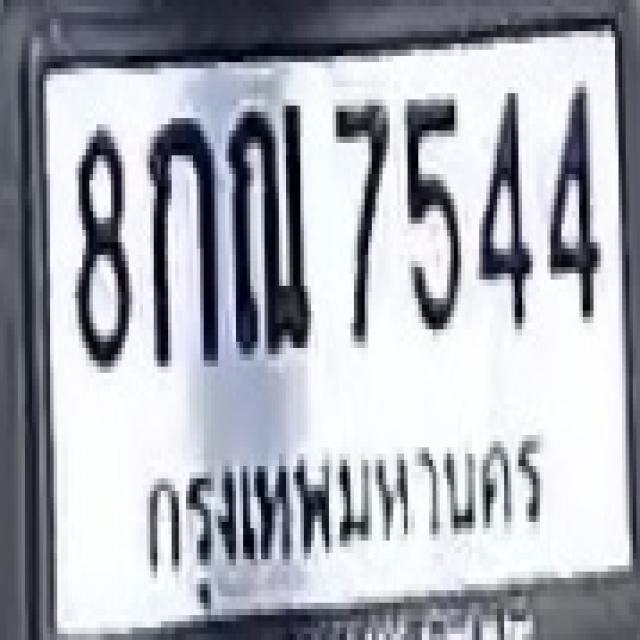-: (225, 96, 308, 351), (146, 112, 214, 360)
4: (476, 87, 532, 323), (545, 81, 599, 317)
5: (401, 93, 462, 330)
7: (333, 93, 386, 342)
8: (72, 124, 128, 360)
BKK: (122, 397, 552, 598)
